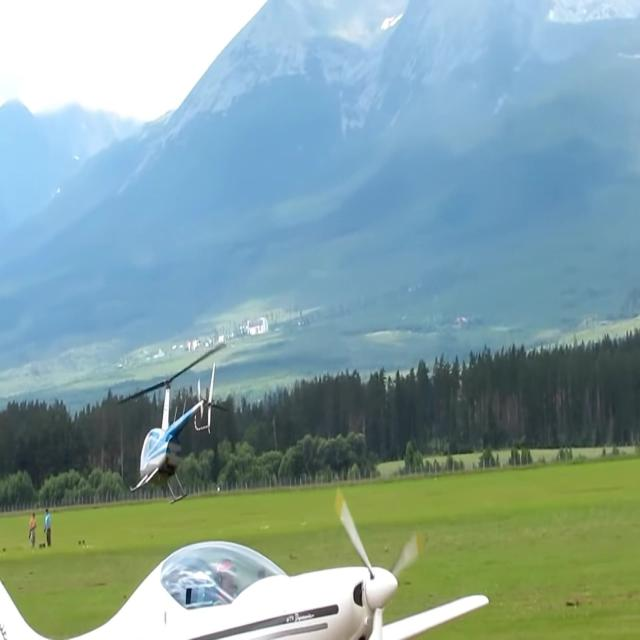CIV_HELO: (129, 363, 228, 506)
